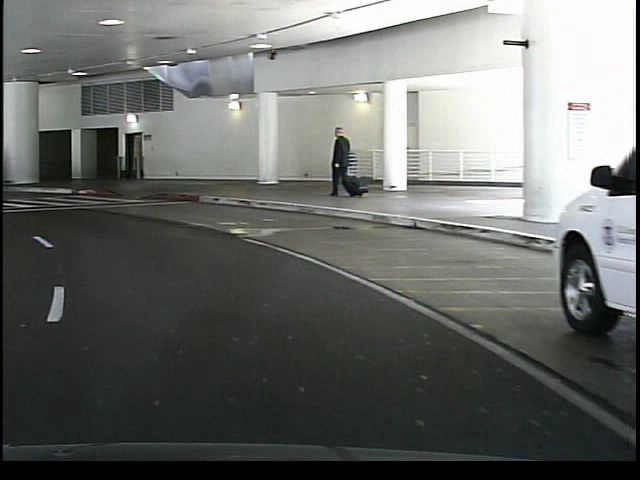person: (320, 124, 356, 202)
